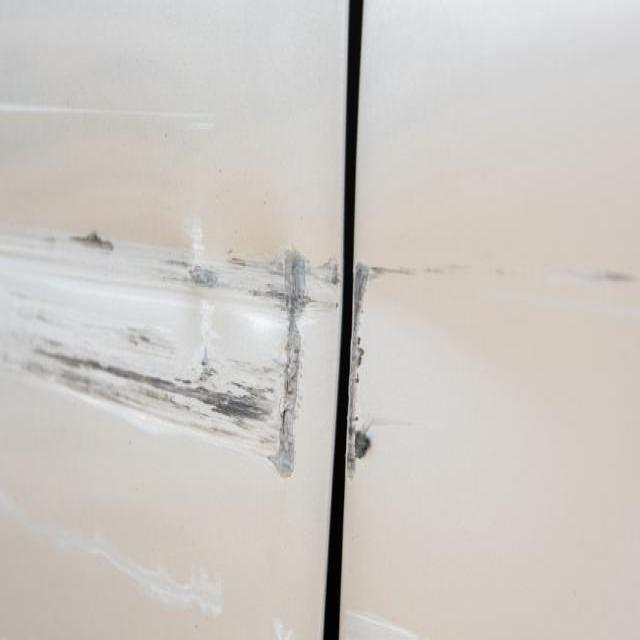Door: (0, 84, 418, 632)
